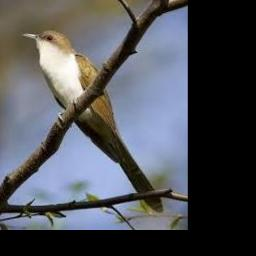Cuckoo: (21, 31, 164, 211)
